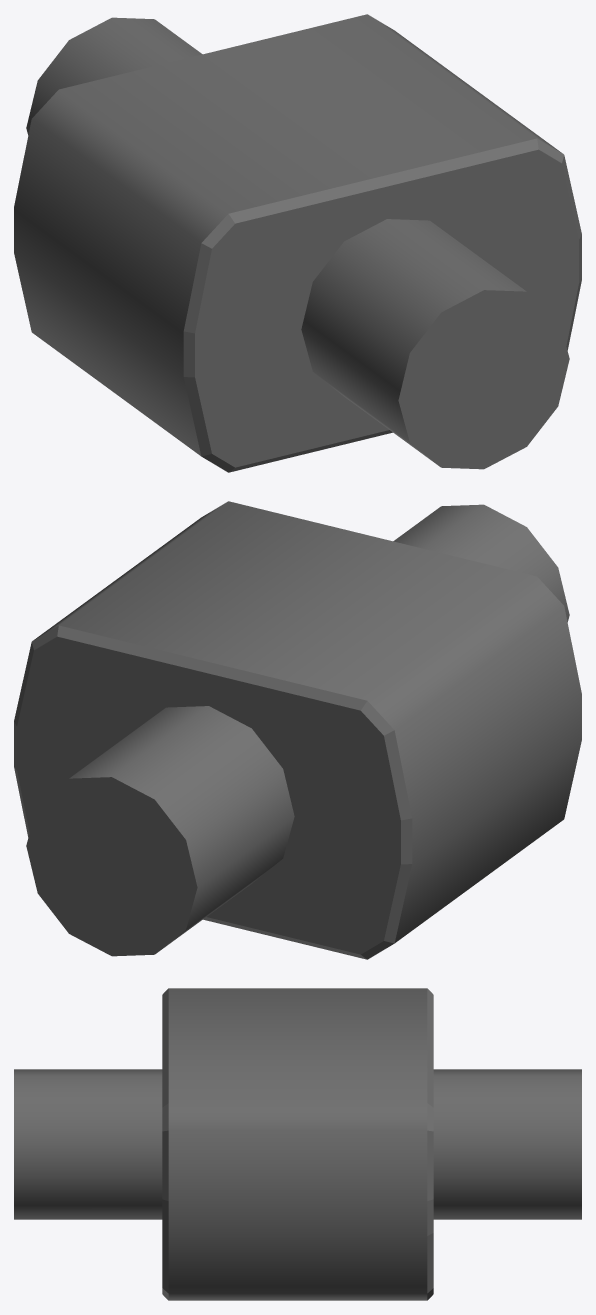
The model's file is gear_pillarbody.FBX.
3 views of the same model, one above another, from view 1: azimuth 30°, elevation 25°; view 2: azimuth 150°, elevation 25°; view 3: azimuth 270°, elevation 25° (orthographic). The views are drawn at different scales.
Parts seen in each view (by area): view 1: Object005; view 2: Object005; view 3: Object005.
Part boxes in pixels (x1,y1,x2,y2): Object005: [14, 14, 581, 472]; Object005: [14, 501, 581, 959]; Object005: [14, 988, 581, 1300].
Size of the model in its own units: 17.85 by 11.09 by 28.89.
